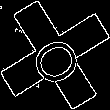O_NE: (22, 23, 88, 87)
